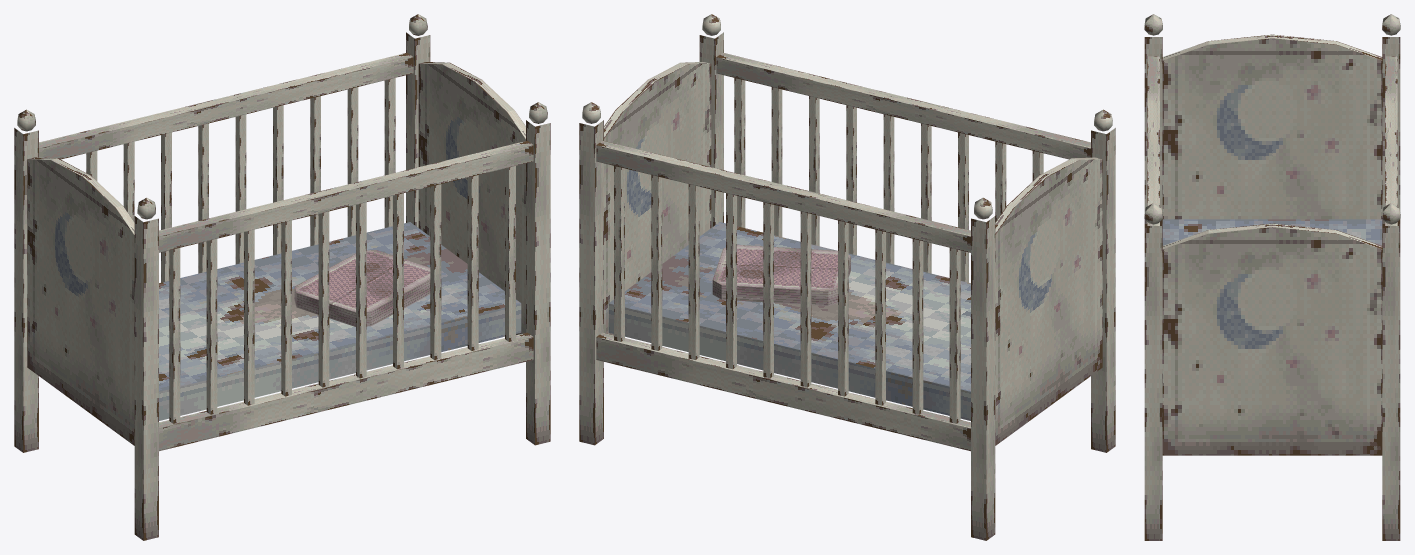
Rendered from crib_old.glb.
3 views of the same model, side by side, from view 1: azimuth 30°, elevation 25°; view 2: azimuth 150°, elevation 25°; view 3: azimuth 270°, elevation 25° (orthographic).
Visible parts, largest first — view 1: crib_old; view 2: crib_old; view 3: crib_old.
Boxes of the visible parts, x1=… form: crib_old: x1=14, y1=14, x2=550, y2=540; crib_old: x1=579, y1=14, x2=1115, y2=540; crib_old: x1=1144, y1=14, x2=1400, y2=540.
Bounding box in the file's own units: 1.32 × 1.04 × 0.722.
Materials: 1 (1 with a texture image).
